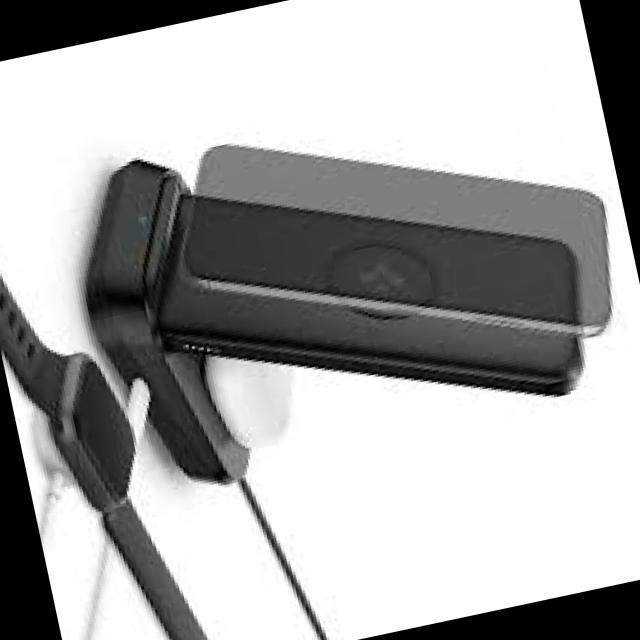portable-charger: (134, 109, 596, 474)
